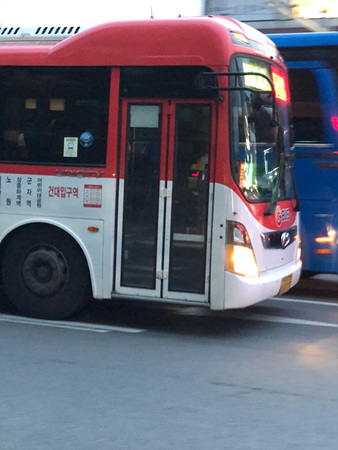entrance: (119, 92, 212, 306)
